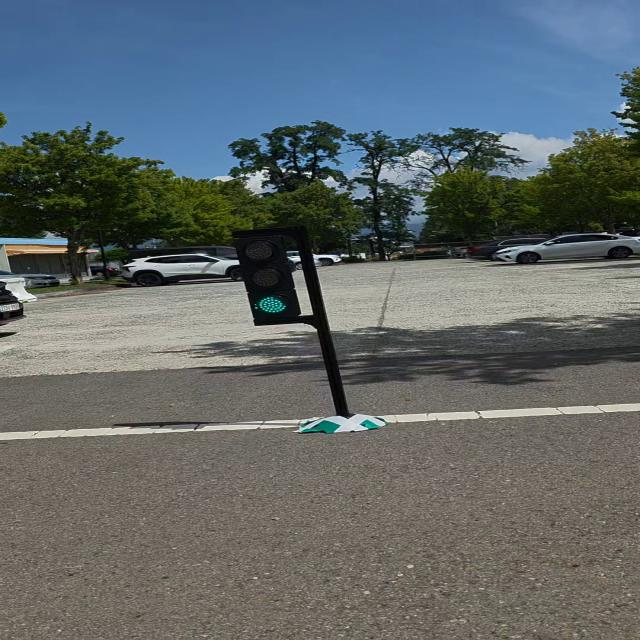green: (236, 231, 304, 324)
